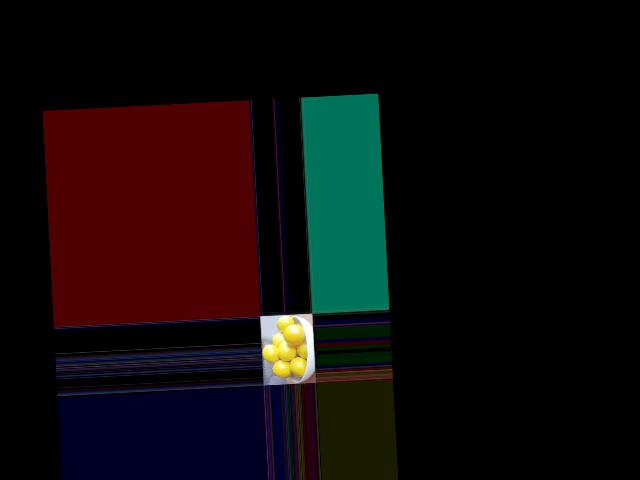lemon: (296, 343, 311, 357)
